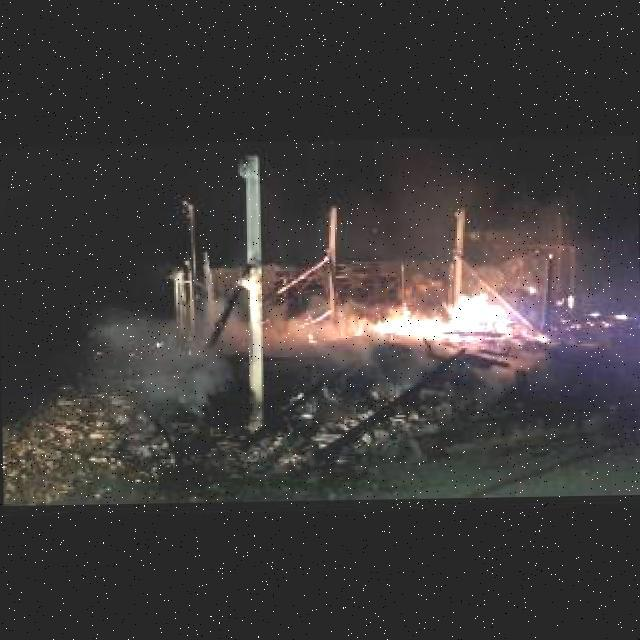Fire: (356, 289, 511, 342), (529, 328, 551, 340)
